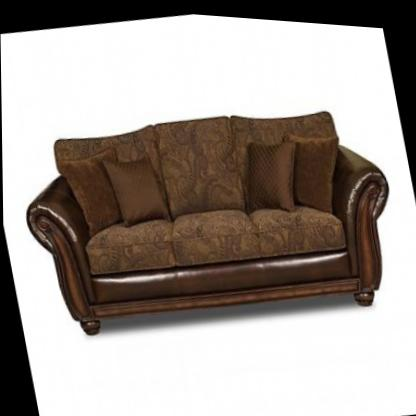Sofa: (10, 71, 412, 363)
